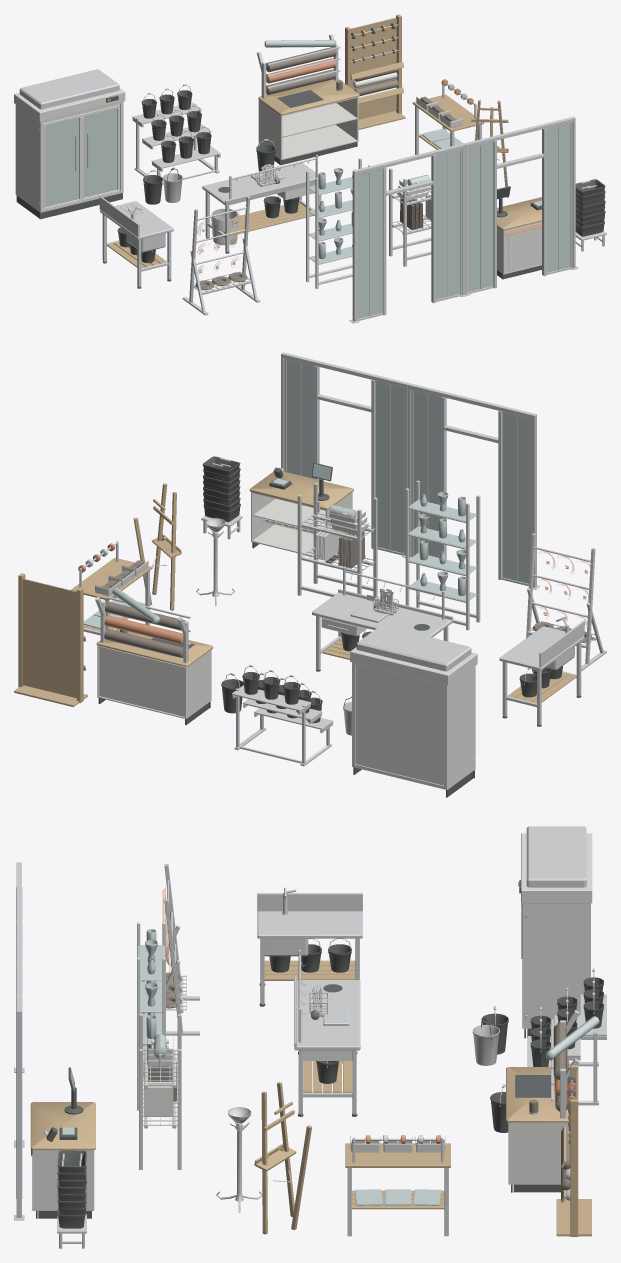
Rendered from garden-centre-and-florist-florist-workroom-4dda04e5__17799.glb.
3 views of the same model, one above another, from view 1: azimuth 30°, elevation 25°; view 2: azimuth 150°, elevation 25°; view 3: azimuth 270°, elevation 25° (orthographic). The views are drawn at different scales.
Parts seen in each view (by area): view 1: 017-glasshouse-partition-bay/1, 018-glasshouse-partition-bay/1, 000-cut-flower-chiller/0, 017-glasshouse-partition-bay/0, 006-wrapping-station/0, 007-ribbon-and-wrap-rack/0, 018-glasshouse-partition-bay/0, 000-cut-flower-chiller/chiller-door-right (×2), 000-cut-flower-chiller/chiller-door-left (×2), 005-florist-workbench/0, 009-flower-conditioning-sink/0, 001-flower-bucket-stand-tiered/1 (+33 smaller); view 2: 000-cut-flower-chiller/0, 017-glasshouse-partition-bay/1, 007-ribbon-and-wrap-rack/0, 018-glasshouse-partition-bay/1, 006-wrapping-station/0, 017-glasshouse-partition-bay/0, 018-glasshouse-partition-bay/0, 005-florist-workbench/0, 009-flower-conditioning-sink/0, 011-vase-display-shelf/1, 016-till-counter-module/0, 012-delivery-box-rack/0 (+18 smaller); view 3: 000-cut-flower-chiller/0, 009-flower-conditioning-sink/0, 005-florist-workbench/0, 000-cut-flower-chiller/2, 006-wrapping-station/0, 014-condolence-easel/0, 016-till-counter-module/2, 007-ribbon-and-wrap-rack/0, 008-wire-and-foam-bench/1, 011-vase-display-shelf/1, 012-delivery-box-rack/0, 001-flower-bucket-stand-tiered/1 (+24 smaller).
Boxes of the visible parts, x1,y1,x2,y2 form: 017-glasshouse-partition-bay/1: (358, 151, 459, 318); 018-glasshouse-partition-bay/1: (468, 124, 570, 291); 000-cut-flower-chiller/0: (14, 88, 125, 212); 017-glasshouse-partition-bay/0: (349, 143, 467, 323); 006-wrapping-station/0: (258, 96, 358, 160); 007-ribbon-and-wrap-rack/0: (345, 14, 405, 129); 018-glasshouse-partition-bay/0: (463, 116, 578, 295); 000-cut-flower-chiller/chiller-door-right (×2): (82, 105, 120, 199); 000-cut-flower-chiller/chiller-door-left (×2): (43, 114, 81, 209); 005-florist-workbench/0: (202, 154, 321, 251); 009-flower-conditioning-sink/0: (99, 196, 173, 286); 001-flower-bucket-stand-tiered/1: (141, 90, 211, 162); 000-cut-flower-chiller/0: (350, 647, 477, 789); 017-glasshouse-partition-bay/1: (413, 391, 530, 583); 007-ribbon-and-wrap-rack/0: (14, 573, 87, 707); 018-glasshouse-partition-bay/1: (286, 361, 403, 553); 006-wrapping-station/0: (97, 645, 211, 718); 017-glasshouse-partition-bay/0: (405, 383, 540, 589); 018-glasshouse-partition-bay/0: (281, 352, 409, 557); 005-florist-workbench/0: (312, 566, 453, 669); 009-flower-conditioning-sink/0: (499, 617, 584, 724); 011-vase-display-shelf/1: (409, 492, 477, 601); 016-till-counter-module/0: (251, 491, 352, 559); 012-delivery-box-rack/0: (297, 483, 377, 597); 000-cut-flower-chiller/0: (521, 833, 592, 1028); 009-flower-conditioning-sink/0: (257, 887, 362, 1003); 005-florist-workbench/0: (294, 950, 360, 1113); 000-cut-flower-chiller/2: (525, 826, 586, 1018); 006-wrapping-station/0: (508, 1122, 569, 1184); 014-condolence-easel/0: (254, 1082, 311, 1233); 016-till-counter-module/2: (30, 1102, 95, 1150); 007-ribbon-and-wrap-rack/0: (556, 1065, 591, 1236); 008-wire-and-foam-bench/1: (345, 1143, 450, 1209); 011-vase-display-shelf/1: (139, 929, 163, 1075); 012-delivery-box-rack/0: (139, 1014, 181, 1169); 001-flower-bucket-stand-tiered/1: (530, 977, 603, 1066).
Size of the model in its own units: 7.21 by 2.6 by 6.73.
